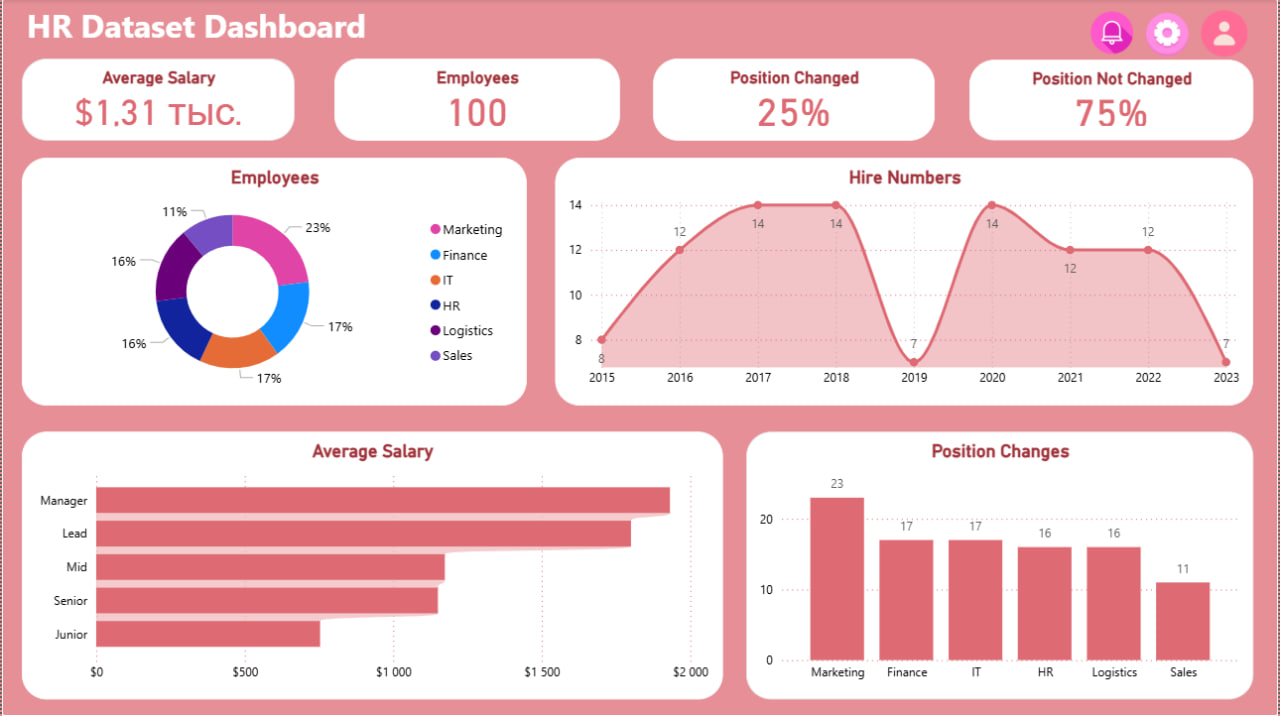

What the dashboard file says about the page in this screenshot:
{"tool":"powerbi","page":{"name":"Страница 1","canvas":[1280,720],"ordinal":0},"visuals":[{"type":"card","title":"Average Salary","fields":{"Values":["Avg(HR.Salary (USD))"]},"box":[19.9,59.7,273.7,82.1],"z":0},{"type":"card","title":"Employees","fields":{"Values":["HR.Total Employees"]},"box":[333.4,59.7,286.1,82.1],"z":1},{"type":"card","title":"Position Changed","fields":{"Values":["HR.Change %"]},"box":[653.1,59.7,282.4,82.1],"z":2},{"type":"areaChart","title":"Hire Numbers","fields":{"Category":["HR.Hire Date.Изменение.Иерархия дат.Год"],"Y":["CountNonNull(HR.Employee ID)"]},"box":[554.8,159.2,700.3,248.8],"z":5},{"type":"clusteredColumnChart","title":"Position Changes","fields":{"Category":["HR.Department"],"Y":["CountNonNull(HR.Position Changed)"]},"box":[746.4,434.1,508.8,268.7],"z":6},{"type":"donutChart","title":"Employees","fields":{"Category":["HR.Department"],"Y":["CountNonNull(HR.Employee ID)"]},"box":[19.9,159.2,506.3,248.8],"z":7},{"type":"barChart","title":"Average Salary","fields":{"Category":["HR.Current Position"],"Y":["Avg(HR.Salary (USD))"]},"box":[19.9,434.1,702.8,268.7],"z":8},{"type":"card","title":"Position Not Changed","fields":{"Values":["HR.No Change %"]},"box":[970.3,61,284.9,80.9],"z":10},{"type":"image","box":[1139.5,8.7,58.5,53.5],"z":12},{"type":"image","box":[1087.2,6.2,52.2,56],"z":13},{"type":"image","box":[1197.9,5,56,59.7],"z":15},{"type":"textbox","box":[19.9,0,444.1,68.4],"z":16}]}

Visuals, with their boxes in screenshot pixels (x1, y1, x2, y2), scaled from the page's 1280x720 canvas onto the 1280x716 screenshot:
"Average Salary" card: box=[20, 59, 294, 141]
"Employees" card: box=[333, 59, 620, 141]
"Position Changed" card: box=[653, 59, 936, 141]
"Hire Numbers" areaChart: box=[555, 158, 1255, 406]
"Position Changes" clusteredColumnChart: box=[746, 432, 1255, 699]
"Employees" donutChart: box=[20, 158, 526, 406]
"Average Salary" barChart: box=[20, 432, 723, 699]
"Position Not Changed" card: box=[970, 61, 1255, 141]
image: box=[1140, 9, 1198, 62]
image: box=[1087, 6, 1139, 62]
image: box=[1198, 5, 1254, 64]
textbox: box=[20, 0, 464, 68]
